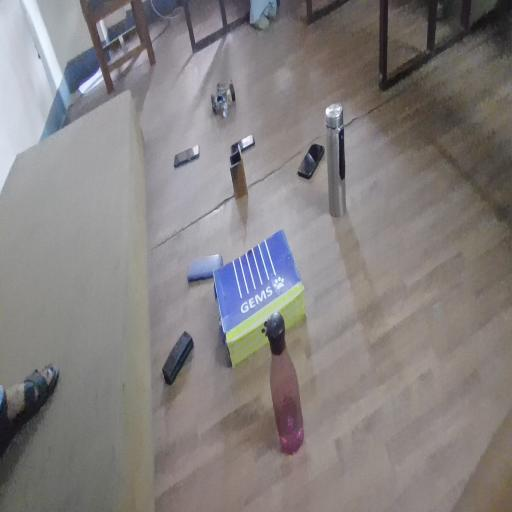Bottle: (257, 312, 313, 451)
car: (203, 64, 248, 132)
